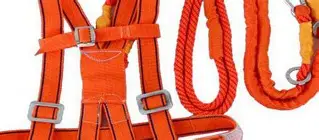safety belt: (27, 0, 233, 139)
